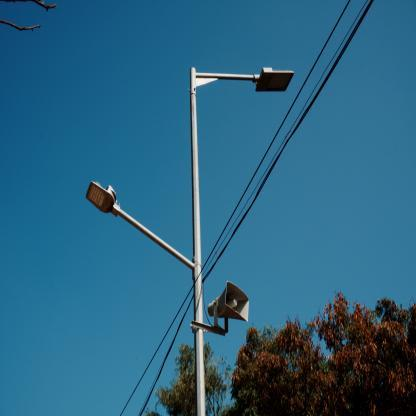light_pole: (85, 62, 295, 416)
